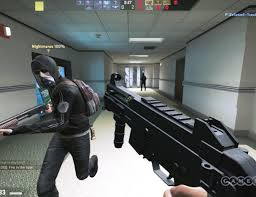gun: (102, 73, 254, 194), (0, 103, 47, 131)
